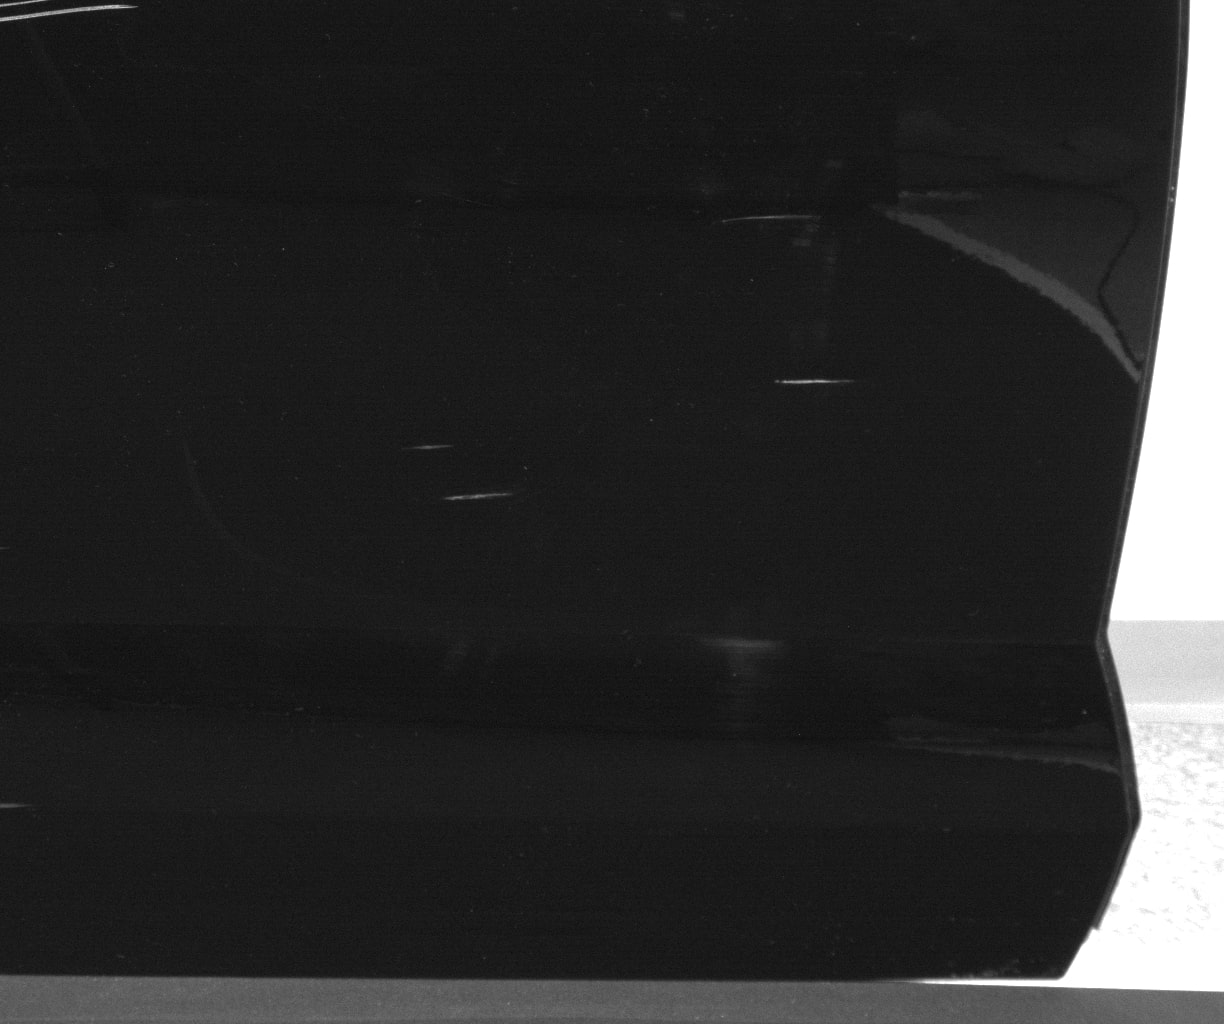scratch: (1, 1, 139, 22), (717, 213, 817, 224), (772, 377, 859, 387), (442, 490, 510, 502), (405, 442, 451, 451), (1, 800, 34, 809)
